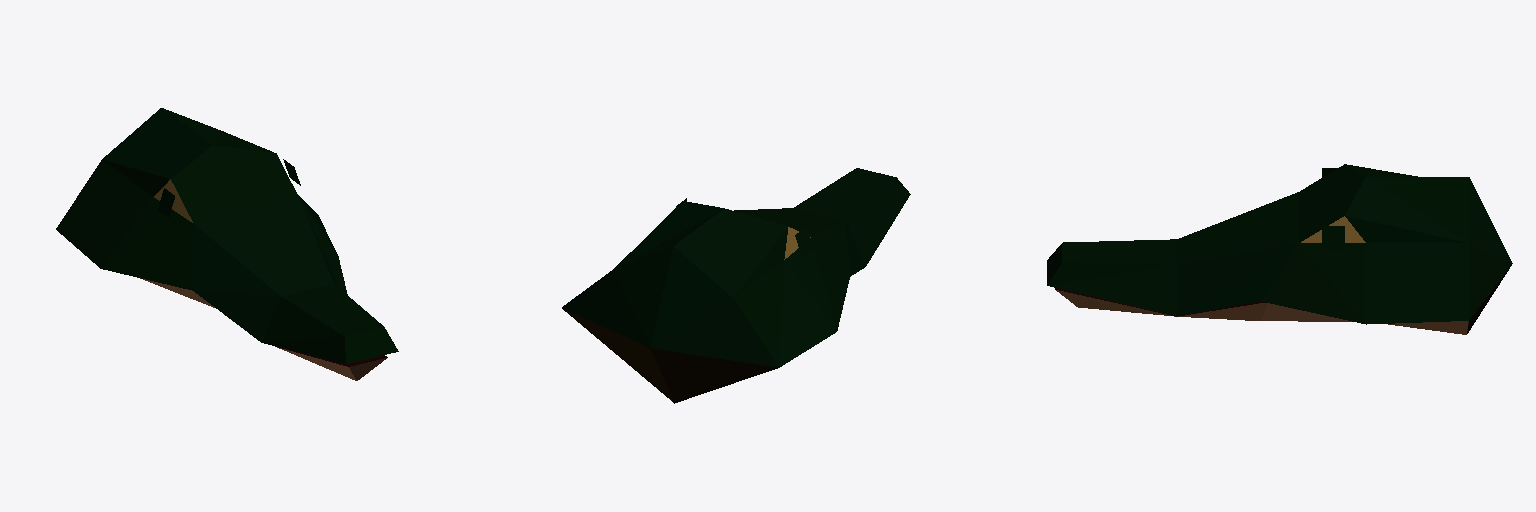
File: GreenAlligatorHead.obj
The picture shows the model from 3 angles: view 1: azimuth 30°, elevation 25°; view 2: azimuth 150°, elevation 25°; view 3: azimuth 270°, elevation 25°; orthographic projection.
Parts seen in each view (by area): view 1: body.001_body.003; view 2: body.001_body.003; view 3: body.001_body.003.
Part boxes in pixels (x1,y1,x2,y2): body.001_body.003: (56, 108, 398, 380); body.001_body.003: (562, 168, 910, 403); body.001_body.003: (1047, 164, 1512, 334).
Size of the model in its own units: 0.34 by 0.229 by 0.6102.